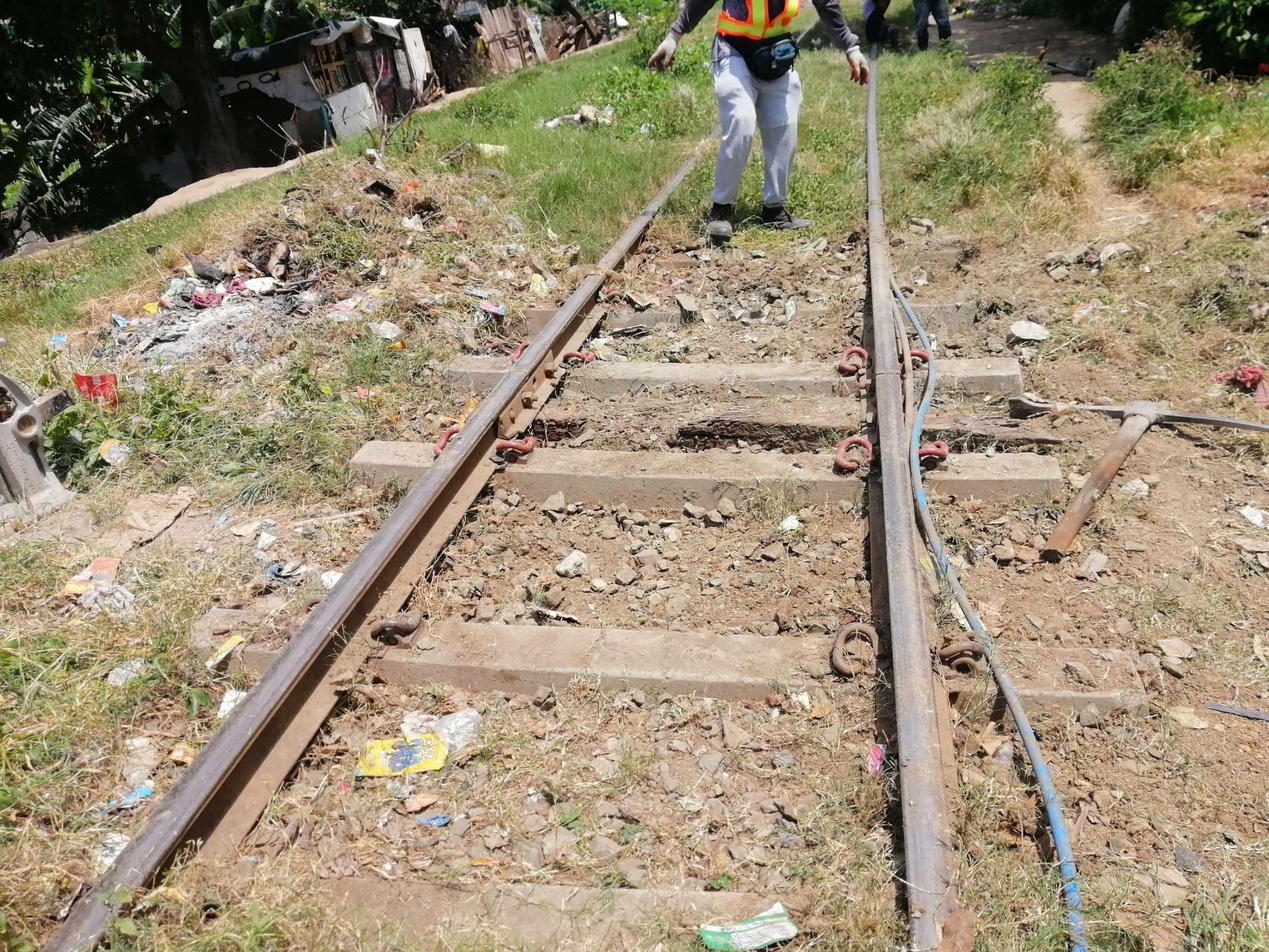railway-gap: (840, 341, 937, 407)
